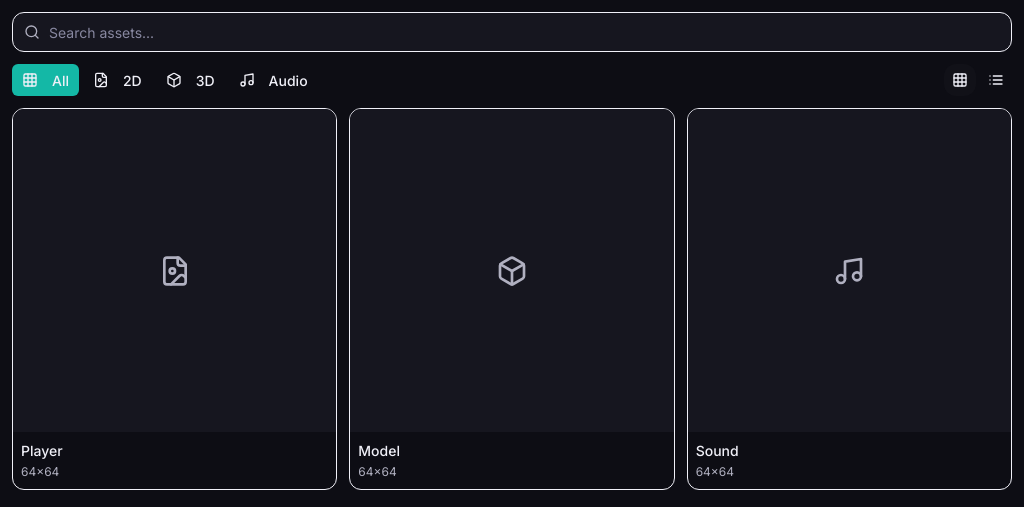
Test case: AssetGallery › filters assets by type
This screenshot has width=1024, height=507.
Check: the text "Player" is shown, box left=21, top=442, right=63, bottom=459
Check: the text "Model" is shown, box left=358, top=442, right=400, bottom=459
Click the button "2D".
click(117, 80)  # box left=83, top=64, right=152, bottom=96
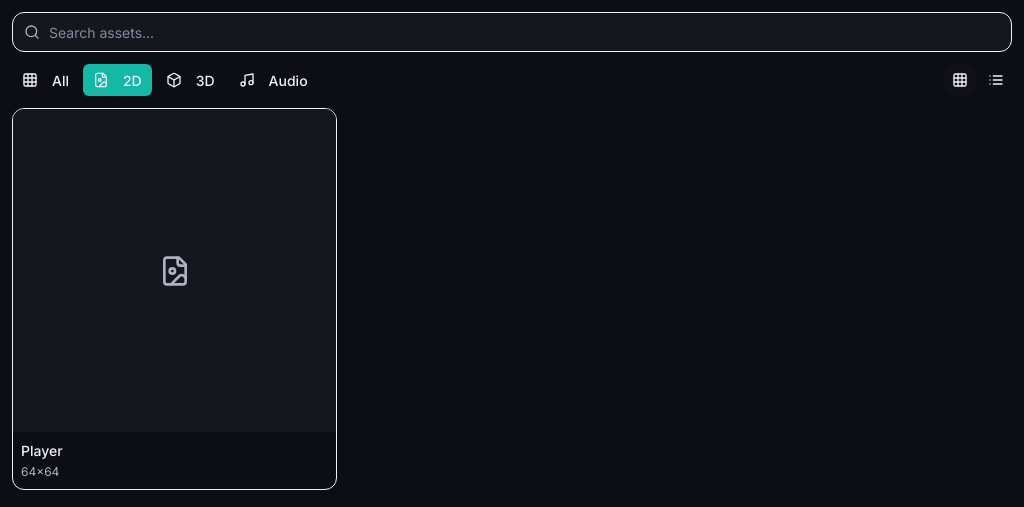
Check: the text "Player" is shown, box left=21, top=442, right=63, bottom=459
Check: the text "Model" is gone
Check: the text "Sound" is gone
